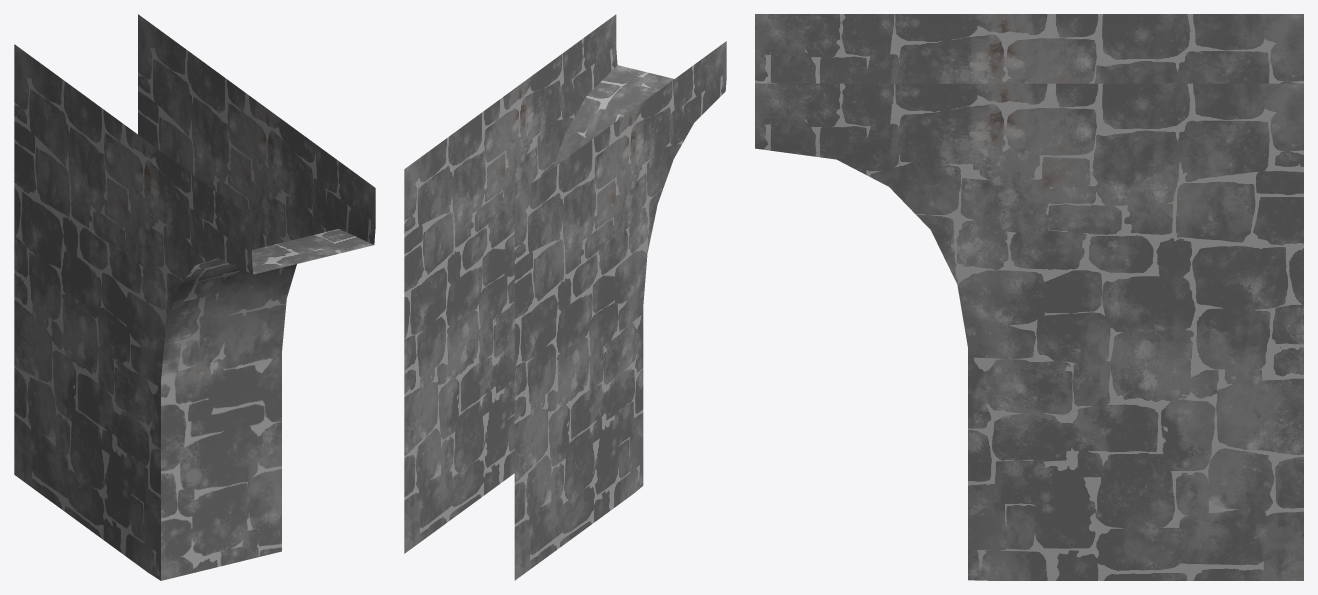
File: Door_Frame_Mid.fbx
3 renders of one model, left to right at view 1: azimuth 30°, elevation 25°; view 2: azimuth 150°, elevation 25°; view 3: azimuth 270°, elevation 25°, orthographic. The views are drawn at different scales.
Parts seen in each view (by area): view 1: Door_Frame_Mid; view 2: Door_Frame_Mid; view 3: Door_Frame_Mid.
Boxes of the visible parts, x1=… form: Door_Frame_Mid: x1=14, y1=14, x2=375, y2=580; Door_Frame_Mid: x1=404, y1=14, x2=726, y2=580; Door_Frame_Mid: x1=755, y1=14, x2=1303, y2=580.
Size of the model in its own units: 1.5 by 5 by 5.
